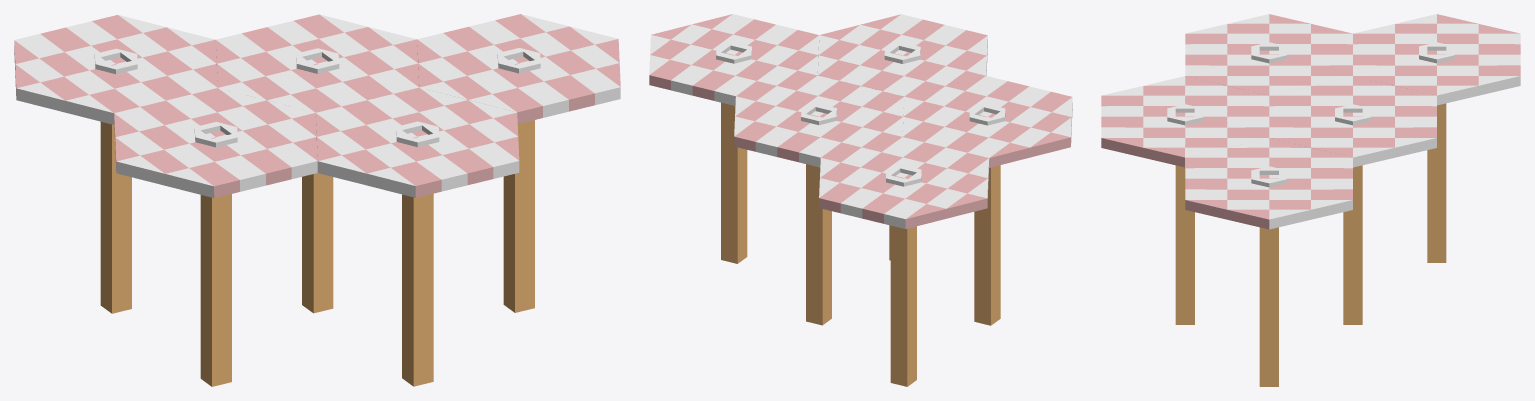
The model's file is plataforma4.glb.
The picture shows the model from 3 angles, left to right: view 1: azimuth 30°, elevation 25°; view 2: azimuth 150°, elevation 25°; view 3: azimuth 270°, elevation 25°; orthographic projection. The views are drawn at different scales.
Parts seen in each view (by area): view 1: Cube.011, Cube.012, Cube.002, Cube.020; view 2: Cube.011, Cube.002, Cube.012, Cube.020; view 3: Cube.011, Cube.002, Cube.012, Cube.020.
Part boxes in pixels (x1,y1,x2,y2): Cube.011: (14, 14, 620, 386); Cube.012: (316, 89, 519, 386); Cube.002: (215, 15, 419, 313); Cube.020: (114, 88, 317, 386); Cube.011: (649, 14, 1072, 386); Cube.002: (734, 75, 904, 165); Cube.012: (818, 14, 987, 96); Cube.020: (902, 86, 1071, 157); Cube.011: (1101, 14, 1520, 386); Cube.002: (1269, 76, 1436, 324); Cube.012: (1101, 76, 1268, 324); Cube.020: (1185, 14, 1352, 92).
Size of the model in its own units: 4.27 by 2.01 by 3.68.
